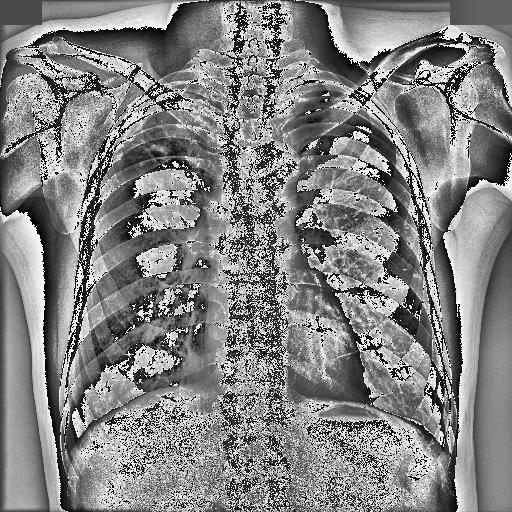11- Pleural thickening: (111, 92, 228, 156), (104, 80, 180, 147)
13- Pulmonary fibrosis: (113, 94, 218, 188), (110, 88, 212, 170), (331, 203, 422, 280), (343, 199, 421, 280), (118, 117, 221, 174), (136, 310, 203, 386)
2- Calcification: (113, 94, 218, 188), (349, 190, 419, 280), (146, 332, 204, 382)
8- Nodule-Mass: (343, 199, 421, 280)
